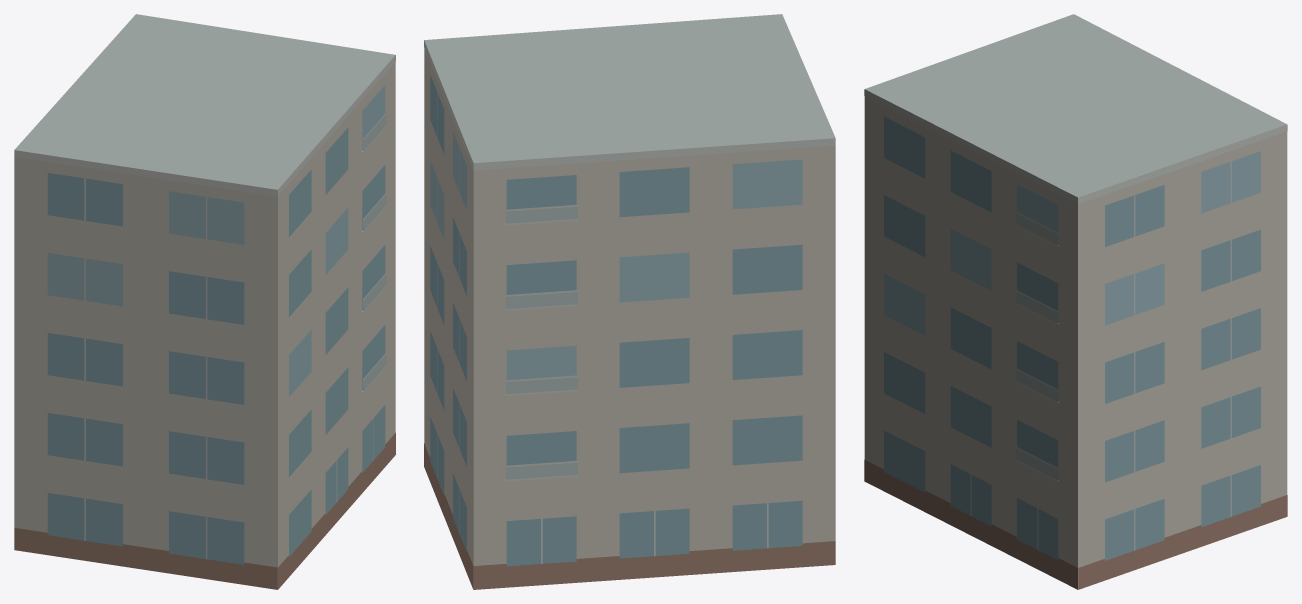
Rendered from survey-upis-32727623.glb.
3 views of the same model, side by side, from view 1: azimuth 30°, elevation 25°; view 2: azimuth 150°, elevation 25°; view 3: azimuth 270°, elevation 25° (orthographic). The views are drawn at different scales.
Parts seen in each view (by area): view 1: survey-upis-32727623.tmp; view 2: survey-upis-32727623.tmp; view 3: survey-upis-32727623.tmp.
Boxes of the visible parts, x1=… form: survey-upis-32727623.tmp: x1=14, y1=14, x2=395, y2=589; survey-upis-32727623.tmp: x1=424, y1=14, x2=835, y2=589; survey-upis-32727623.tmp: x1=864, y1=14, x2=1287, y2=589.
Size of the model in its own units: 14.16 by 14.1 by 13.79.
